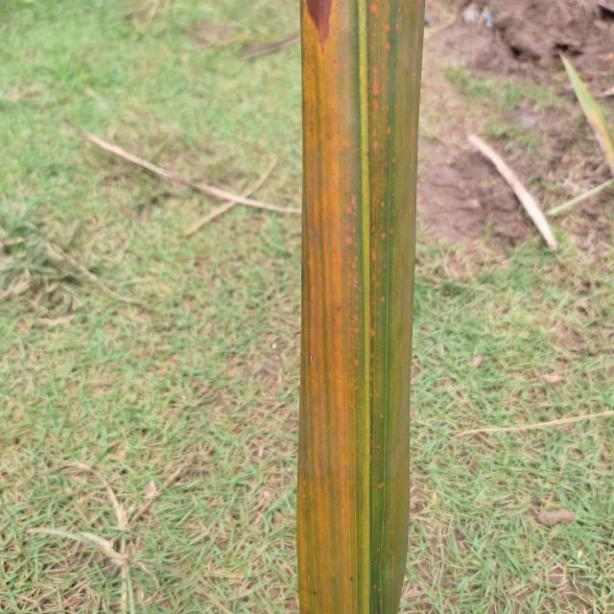Megnesium: (294, 1, 422, 614)
